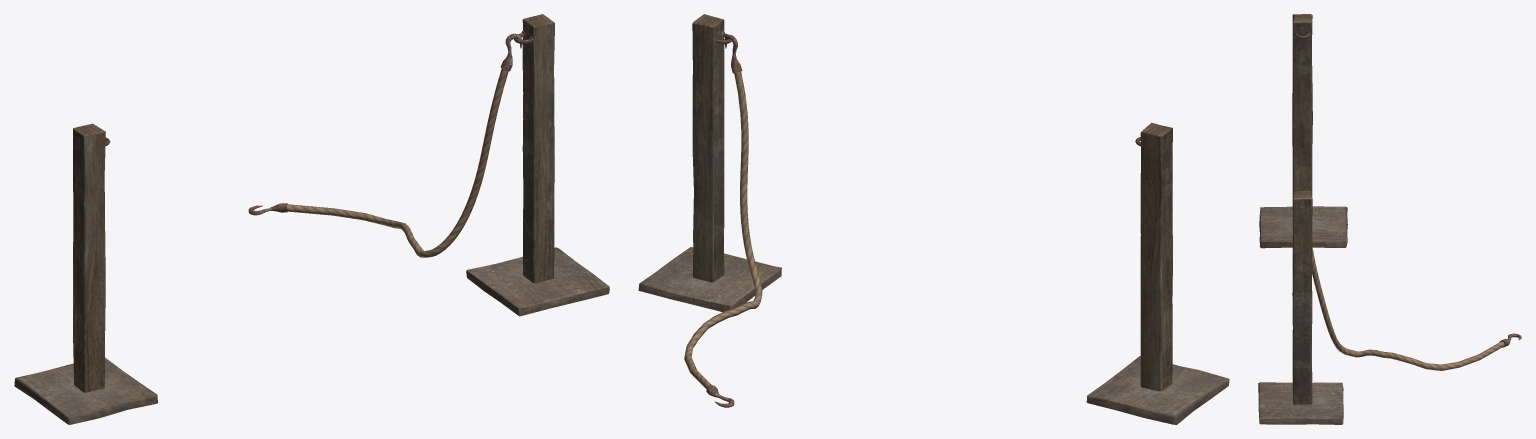
The model's file is SM_RopeFence_C.fbx.
3 views of the same model, side by side, from view 1: azimuth 30°, elevation 25°; view 2: azimuth 150°, elevation 25°; view 3: azimuth 270°, elevation 25° (orthographic). The views are drawn at different scales.
Visible parts, largest first — view 1: SM_RopeFence_C_LOD0; view 2: SM_RopeFence_C_LOD0; view 3: SM_RopeFence_C_LOD0.
Part boxes in pixels (x1,y1,x2,y2): SM_RopeFence_C_LOD0: [14, 14, 609, 424]; SM_RopeFence_C_LOD0: [638, 14, 1229, 424]; SM_RopeFence_C_LOD0: [1258, 14, 1521, 424].
Size of the model in its own units: 184 by 96.2 by 86.18.
Materials: 1 (1 with a texture image).
